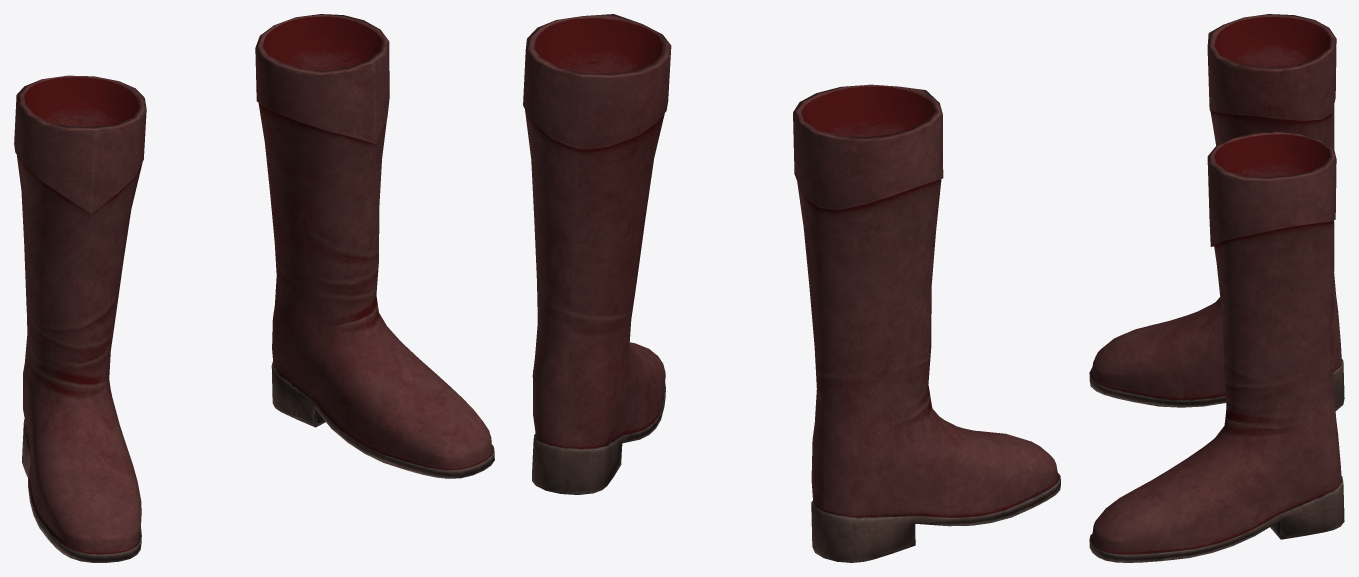
File: boots.glb
3 views of the same model, side by side, from view 1: azimuth 30°, elevation 25°; view 2: azimuth 150°, elevation 25°; view 3: azimuth 270°, elevation 25° (orthographic). The views are drawn at different scales.
Visible parts, largest first — view 1: Object_2; view 2: Object_2; view 3: Object_2.
Boxes of the visible parts, x1,y1,x2,y2 form: Object_2: (14, 14, 494, 562); Object_2: (523, 14, 1060, 562); Object_2: (1089, 14, 1344, 562).
Bounding box in the file's own units: 45.84 × 39.02 × 24.44.
1 material, 1 textured.
